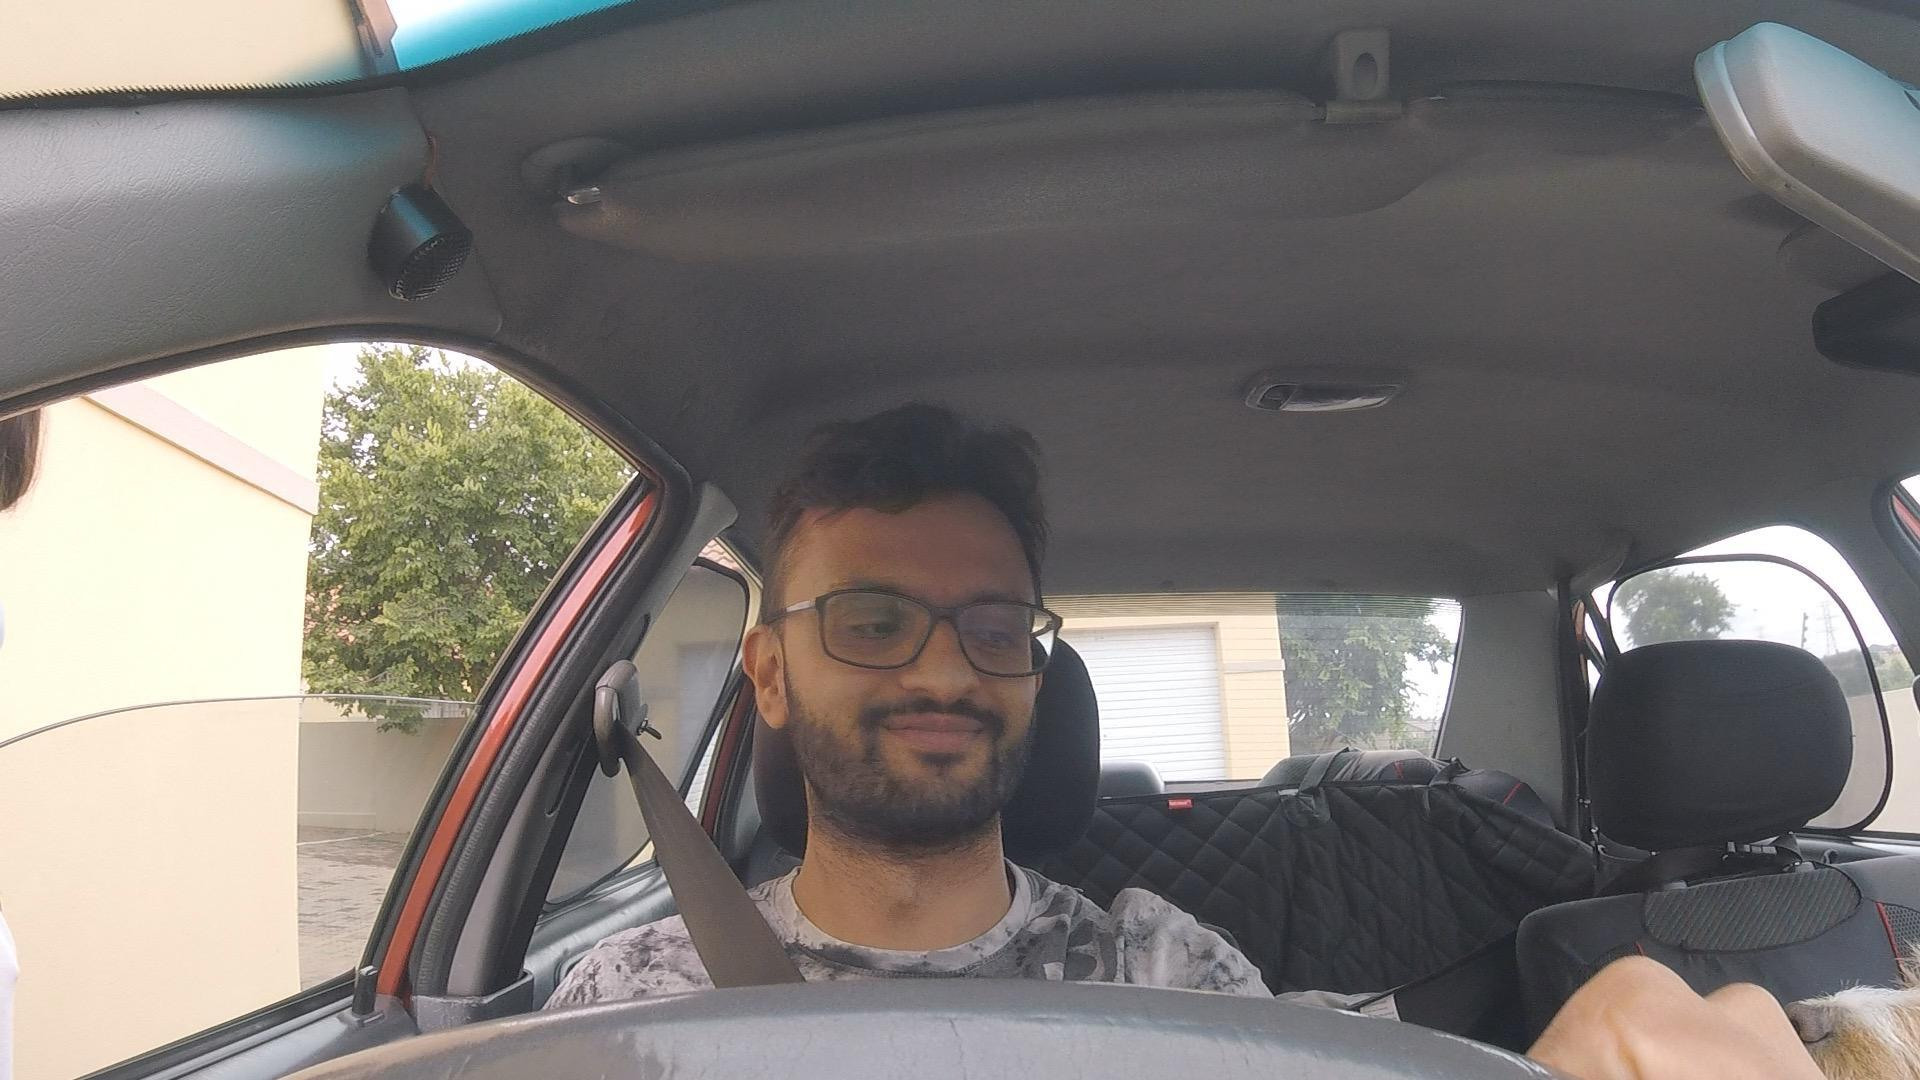SafeDriving: (741, 400, 1065, 851)
